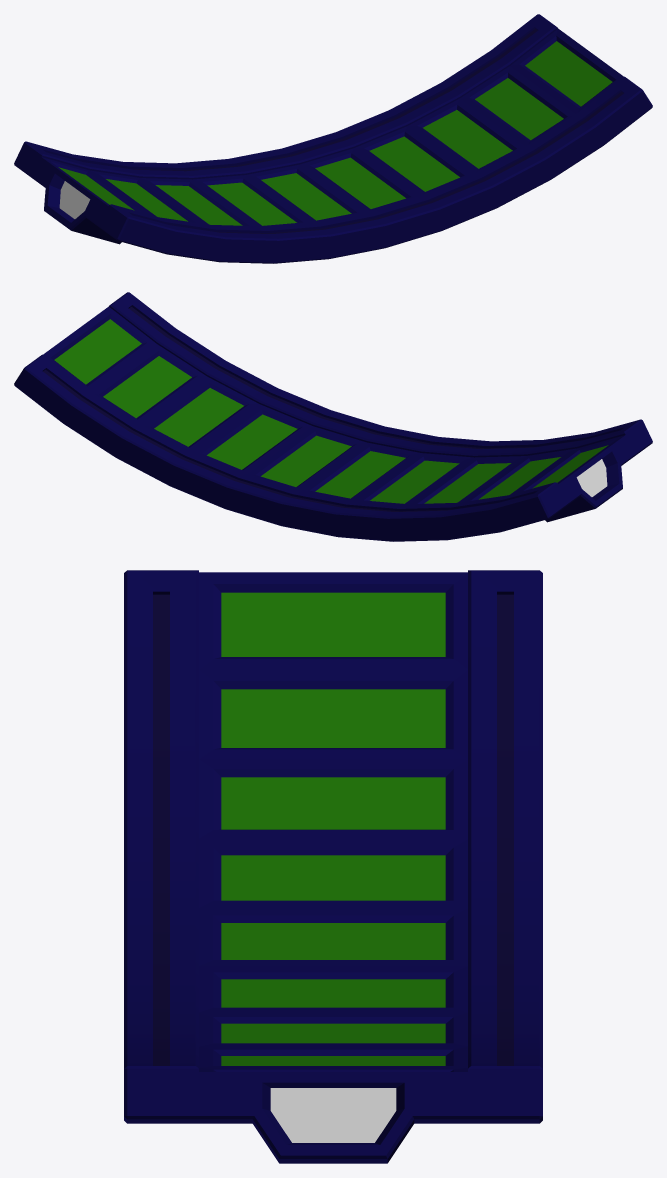
The model's file is OBJ_Platform_Courbe.fbx.
3 renders of one model, top to bottom at view 1: azimuth 30°, elevation 25°; view 2: azimuth 150°, elevation 25°; view 3: azimuth 270°, elevation 25°, orthographic. The views are drawn at different scales.
Visible parts, largest first — view 1: OBJ_Platform_Courbe; view 2: OBJ_Platform_Courbe; view 3: OBJ_Platform_Courbe.
Boxes of the visible parts, left/top/right/bottom form: OBJ_Platform_Courbe: left=14, top=14, right=652, bottom=263; OBJ_Platform_Courbe: left=14, top=292, right=652, bottom=541; OBJ_Platform_Courbe: left=124, top=570, right=542, bottom=1163.
Bounding box in the file's own units: 30.35 × 5.83 × 9.95.
